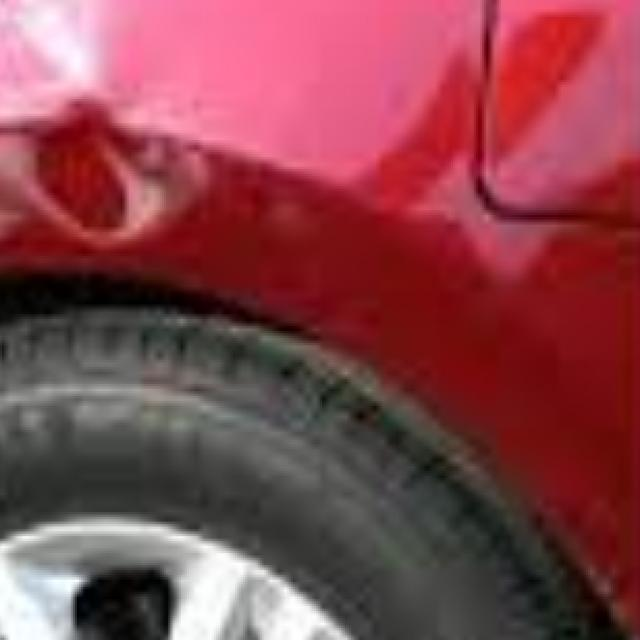dents: (32, 91, 242, 241)
